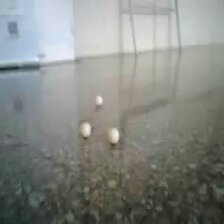tennis: (209, 125, 224, 158), (123, 82, 139, 105), (47, 69, 62, 90), (137, 61, 147, 78)
